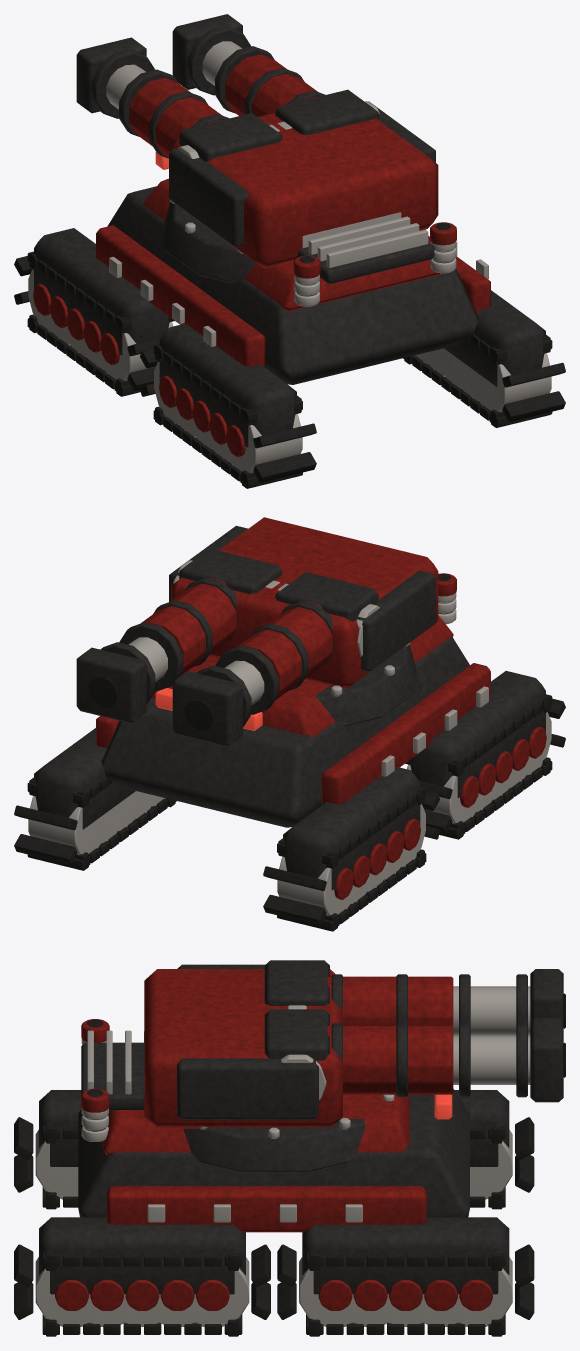
File: kharn_titan.gltf
3 views of the same model, one above another, from view 1: azimuth 30°, elevation 25°; view 2: azimuth 150°, elevation 25°; view 3: azimuth 270°, elevation 25° (orthographic). The views are drawn at different scales.
Visible parts, largest first — view 1: Root.031_Geometry, TurretYaw.015_Geometry, GunRecoil.013_Geometry, GunRecoil.014_Geometry, Track_-1.04_-0.91_Geometry, Track_1.04_-0.91_Geometry, Track_-1.04_0.91_Geometry, GunPitch.017_Geometry, GunPitch.018_Geometry, Wheel_-1.0374750000000001_0_Geometry, Wheel_1.0374750000000001_0_Geometry, Wheel_-1.0374750000000001_0.001_Geometry (+9 smaller); view 2: Root.031_Geometry, TurretYaw.015_Geometry, GunRecoil.013_Geometry, GunRecoil.014_Geometry, Track_-1.04_0.91_Geometry, Track_1.04_0.91_Geometry, Track_-1.04_-0.91_Geometry, GunPitch.017_Geometry, GunPitch.018_Geometry, Wheel_-1.0374750000000001_4.001_Geometry, Wheel_1.0374750000000001_4.001_Geometry, Wheel_-1.0374750000000001_4_Geometry (+9 smaller); view 3: Root.031_Geometry, TurretYaw.015_Geometry, GunRecoil.014_Geometry, GunRecoil.013_Geometry, Track_1.04_0.91_Geometry, Track_1.04_-0.91_Geometry, GunPitch.018_Geometry, GunPitch.017_Geometry, Wheel_1.0374750000000001_0_Geometry, Wheel_1.0374750000000001_0.001_Geometry, Track_-1.04_-0.91_Geometry, Track_-1.04_0.91_Geometry (+10 smaller).
Boxes of the visible parts, x1,y1,x2,y2 form: Root.031_Geometry: (34,152,545,447); TurretYaw.015_Geometry: (169,101,438,268); GunRecoil.013_Geometry: (76,37,229,158); GunRecoil.014_Geometry: (172,14,325,116); Track_-1.04_-0.91_Geometry: (140,343,316,488); Track_1.04_-0.91_Geometry: (403,334,565,427); Track_-1.04_0.91_Geometry: (14,251,174,396); GunPitch.017_Geometry: (178,113,282,161); GunPitch.018_Geometry: (275,89,379,134); Wheel_-1.0374750000000001_0_Geometry: (223,414,302,472); Wheel_1.0374750000000001_0_Geometry: (479,353,551,411); Wheel_-1.0374750000000001_0.001_Geometry: (97,322,172,380); Root.031_Geometry: (34,573,545,890); TurretYaw.015_Geometry: (169,517,438,688); GunRecoil.013_Geometry: (172,601,333,746); GunRecoil.014_Geometry: (76,577,237,723); Track_-1.04_0.91_Geometry: (263,786,439,931); Track_1.04_0.91_Geometry: (14,777,176,870); Track_-1.04_-0.91_Geometry: (405,694,565,839); GunPitch.017_Geometry: (275,572,379,656); GunPitch.018_Geometry: (173,548,282,593); Wheel_-1.0374750000000001_4.001_Geometry: (277,857,354,915); Wheel_1.0374750000000001_4.001_Geometry: (28,796,109,854); Wheel_-1.0374750000000001_4_Geometry: (407,764,480,823); Root.031_Geometry: (39,1019,509,1294); TurretYaw.015_Geometry: (144,964,342,1128); GunRecoil.014_Geometry: (327,1018,565,1102); GunRecoil.013_Geometry: (327,969,565,1035); Track_1.04_0.91_Geometry: (277,1244,534,1336); Track_1.04_-0.91_Geometry: (14,1244,270,1336); GunPitch.018_Geometry: (264,1009,329,1100); GunPitch.017_Geometry: (264,960,329,1009); Wheel_1.0374750000000001_0_Geometry: (35,1257,101,1326); Wheel_1.0374750000000001_0.001_Geometry: (299,1257,364,1326); Track_-1.04_-0.91_Geometry: (14,1117,78,1209); Track_-1.04_0.91_Geometry: (470,1117,534,1209).
Bounding box in the file's own units: 2.55 × 1.96 × 3.8.
5 materials, 3 textured.
